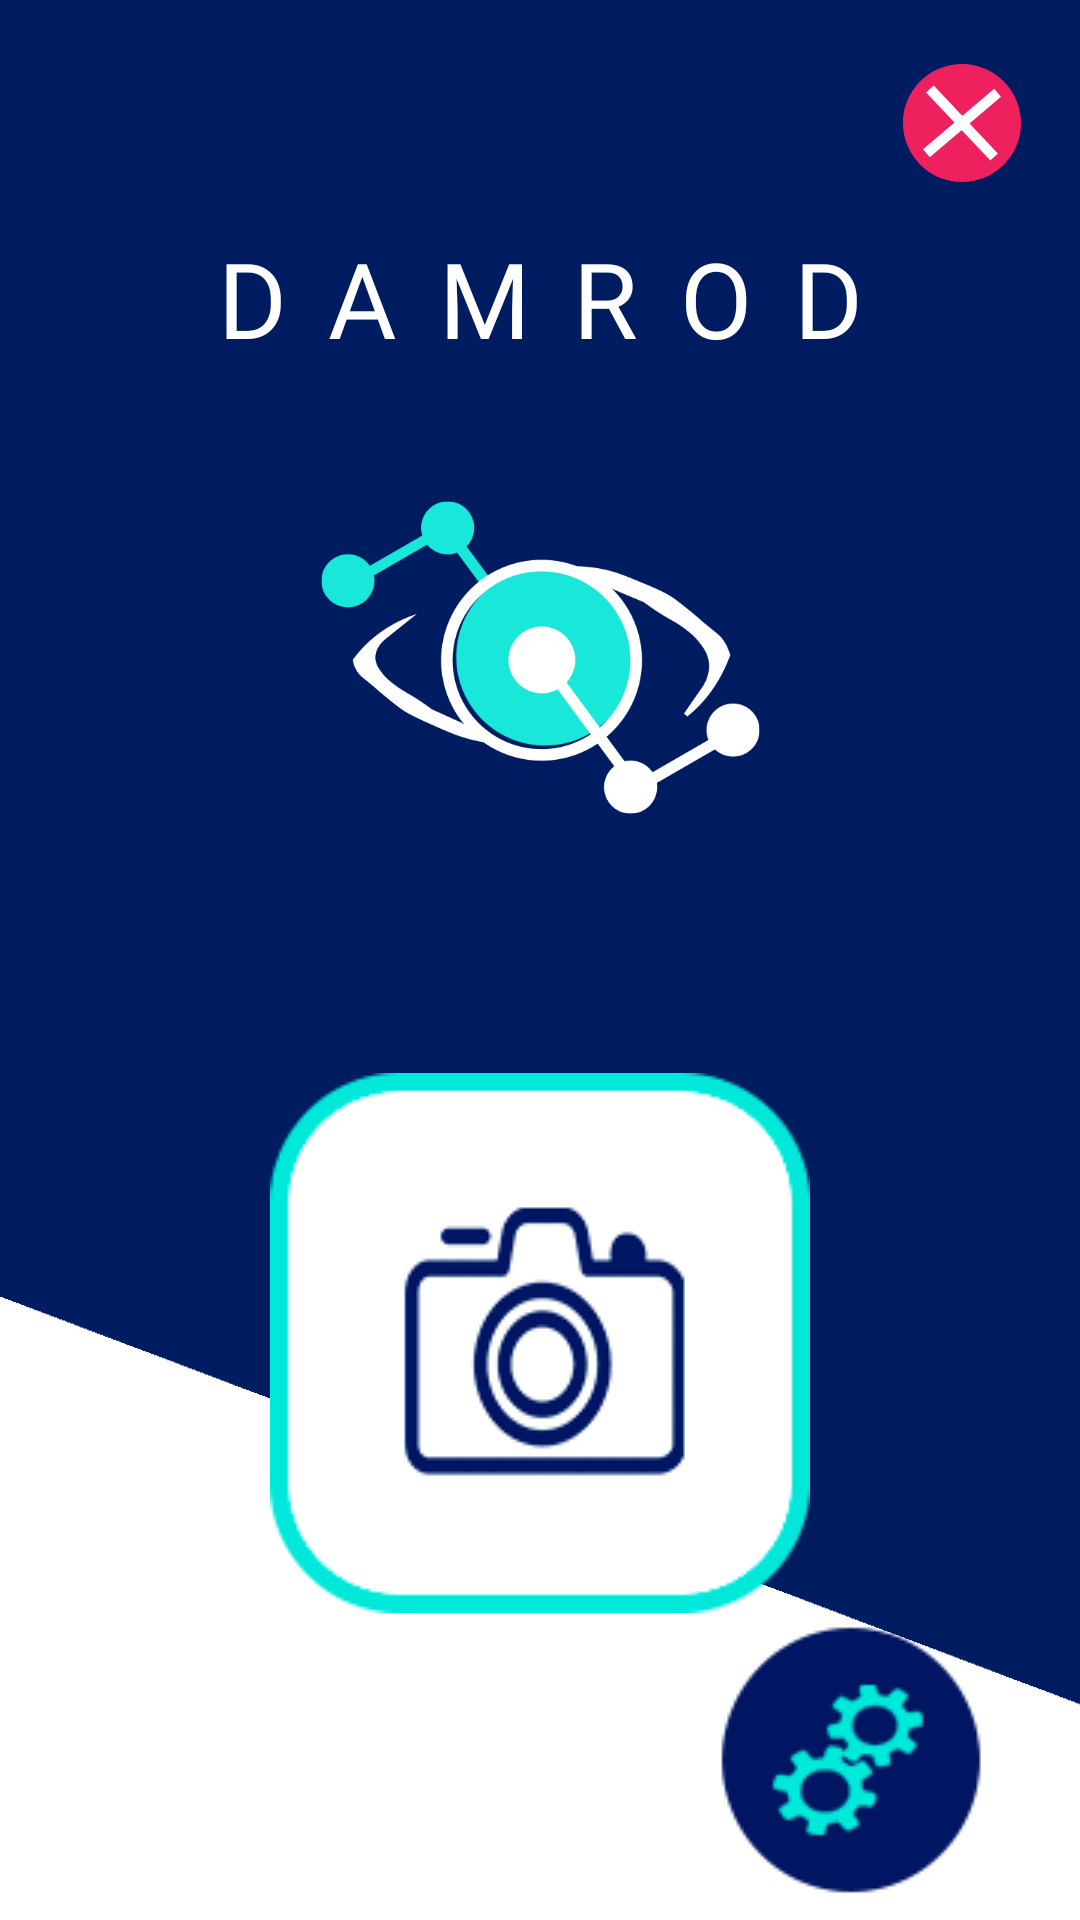

Named icons in this screenshot (1080 x 1920) and their centers, [x,y]:
Cerrar app: [962,123]
conf: [848,1757]
